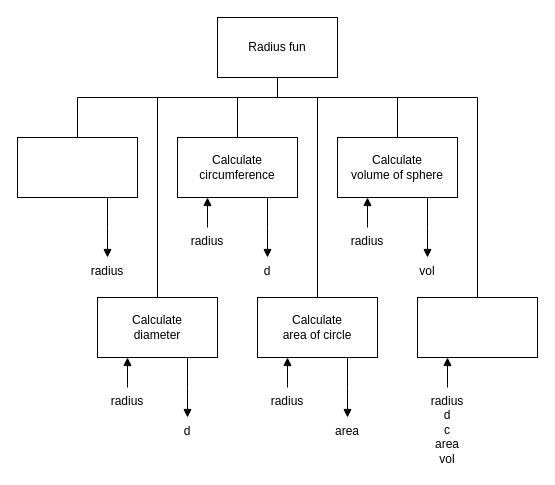
Some shapes in this 555 by 485 pixel diagram are drawn without their labels. The shapes that lost their labels are listed below. From the top down, each one's centre as x and y in pixels, then its label:
(x=77, y=167): Get valid radius
(x=477, y=327): Write results to file
